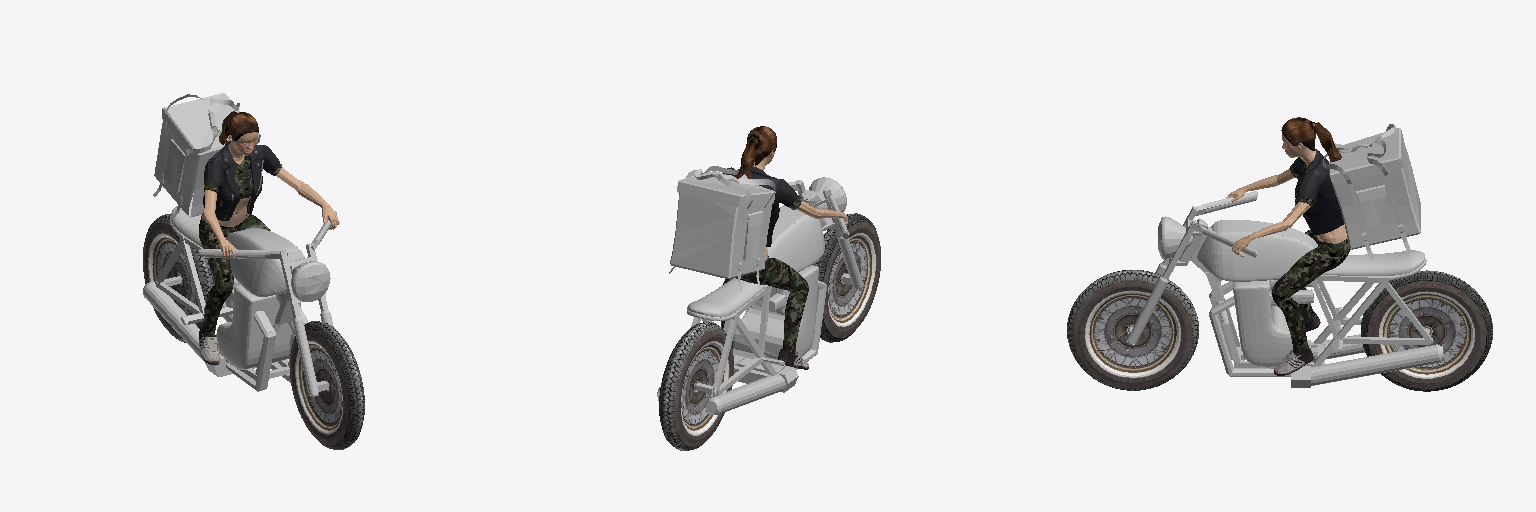
3 views of the same model, side by side, from view 1: azimuth 30°, elevation 25°; view 2: azimuth 150°, elevation 25°; view 3: azimuth 270°, elevation 25° (orthographic).
Visible parts, largest first — view 1: Frame_Material.003, Shirt_Material.001, tireShape1_Material.006, BagRappi_Material.008, tireShape2_Material.007, Body_Material; view 2: Frame_Material.003, BagRappi_Material.008, tireShape2_Material.007, tireShape1_Material.006, Shirt_Material.001, Body_Material; view 3: Frame_Material.003, tireShape1_Material.006, tireShape2_Material.007, BagRappi_Material.008, Shirt_Material.001, Body_Material.
Part boxes in pixels (left/top/right/bottom): Frame_Material.003: left=143, top=206, right=336, bottom=396; Shirt_Material.001: left=199, top=111, right=281, bottom=364; tireShape1_Material.006: left=290, top=321, right=364, bottom=449; BagRappi_Material.008: left=153, top=93, right=260, bottom=218; tireShape2_Material.007: left=143, top=214, right=214, bottom=342; Body_Material: left=202, top=132, right=339, bottom=259; Frame_Material.003: left=657, top=177, right=863, bottom=414; BagRappi_Material.008: left=669, top=166, right=775, bottom=290; tireShape2_Material.007: left=659, top=322, right=733, bottom=450; tireShape1_Material.006: left=812, top=213, right=880, bottom=342; Shirt_Material.001: left=721, top=126, right=808, bottom=369; Body_Material: left=753, top=150, right=847, bottom=260; Frame_Material.003: left=1126, top=191, right=1444, bottom=387; tireShape1_Material.006: left=1067, top=270, right=1198, bottom=390; tireShape2_Material.007: left=1361, top=270, right=1492, bottom=391; BagRappi_Material.008: left=1323, top=124, right=1420, bottom=259; Shirt_Material.001: left=1271, top=117, right=1350, bottom=375; Body_Material: left=1226, top=133, right=1347, bottom=256.
Size of the model in its own units: 0.8562 by 1.61 by 2.29.
6 materials, 3 textured.